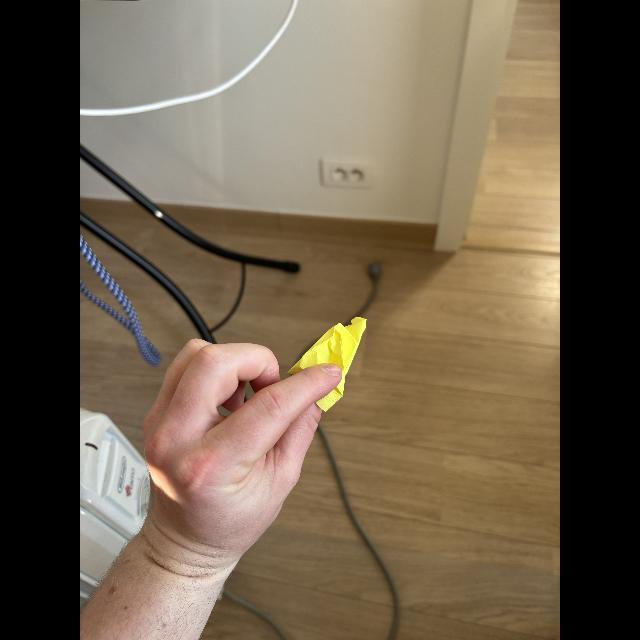Paper: (288, 310, 372, 412)
